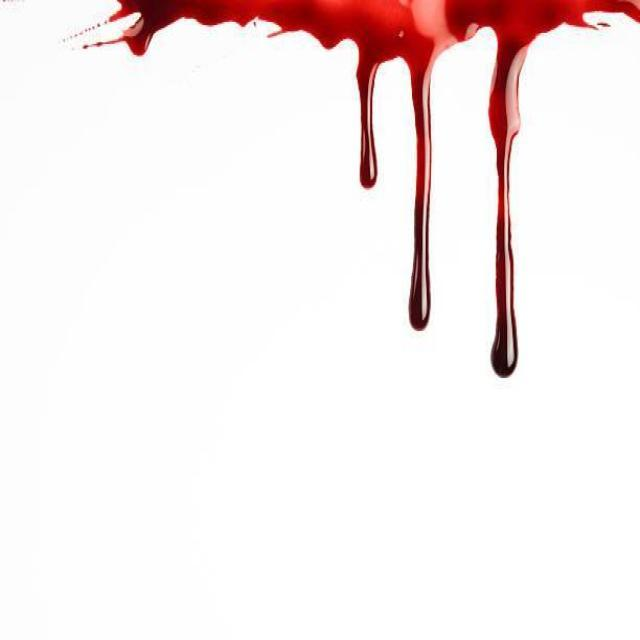flood: (94, 0, 640, 104), (478, 102, 533, 384), (406, 102, 440, 334)
